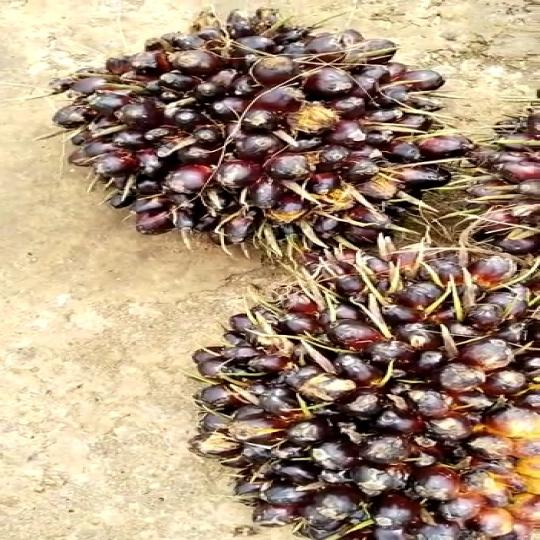mentah: (188, 243, 540, 539), (50, 1, 455, 246)
